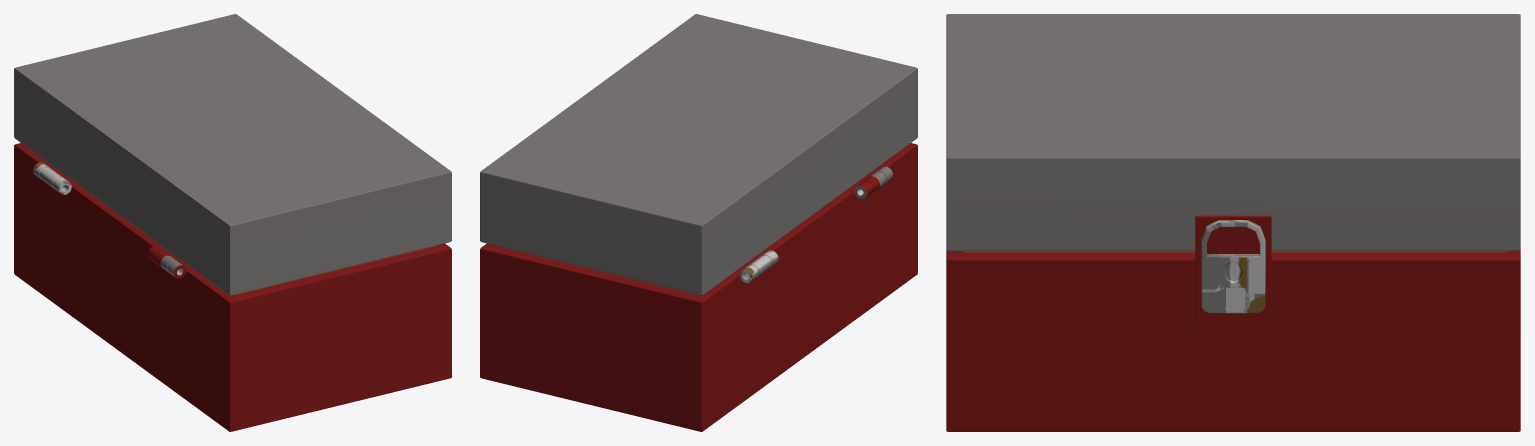
Rendered from caja.fbx.
3 views of the same model, side by side, from view 1: azimuth 30°, elevation 25°; view 2: azimuth 150°, elevation 25°; view 3: azimuth 270°, elevation 25° (orthographic). The views are drawn at different scales.
Visible parts, largest first — view 1: caja_cerada; view 2: caja_cerada; view 3: caja_cerada.
Part boxes in pixels (x1,y1,x2,y2): caja_cerada: (14,14,451,431); caja_cerada: (480,14,917,431); caja_cerada: (946,14,1520,431).
Size of the model in its own units: 7001 by 5600 by 10600.
